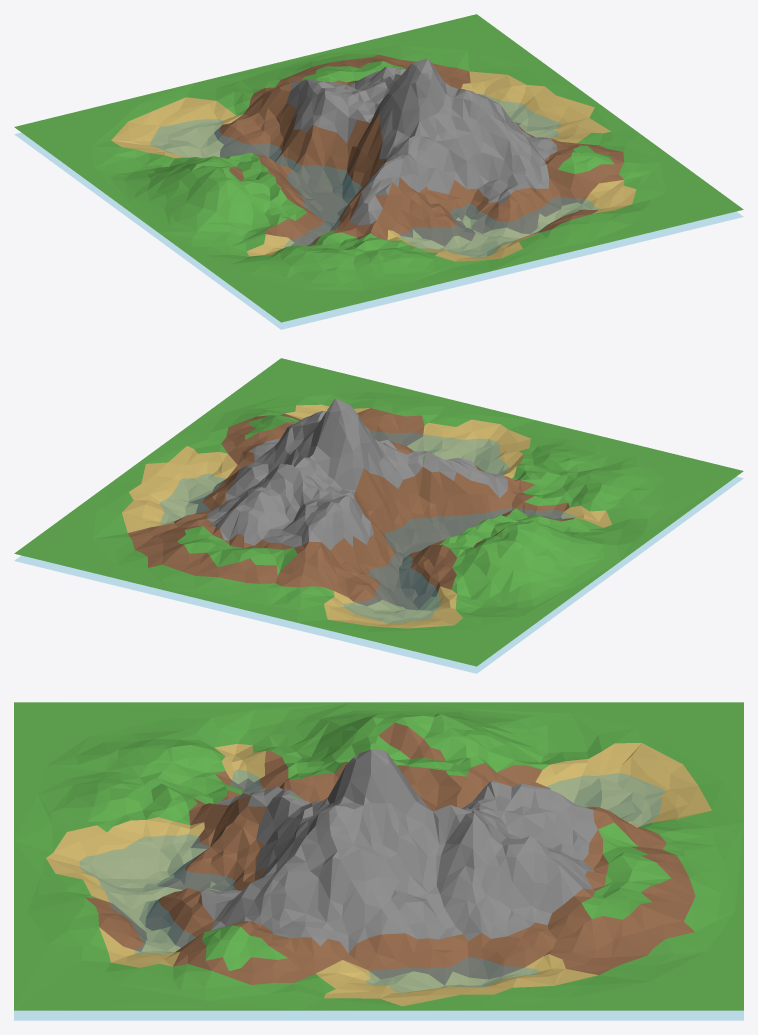
Rendered from mountain_lake.fbx.
3 renders of one model, top to bottom at view 1: azimuth 30°, elevation 25°; view 2: azimuth 150°, elevation 25°; view 3: azimuth 270°, elevation 25°, orthographic. The views are drawn at different scales.
Parts seen in each view (by area): view 1: mountain_lake01, water.002; view 2: mountain_lake01, water.002; view 3: mountain_lake01, water.002.
Part boxes in pixels (x1,y1,x2,y2): mountain_lake01: (14, 14, 743, 322); water.002: (15, 94, 742, 329); mountain_lake01: (14, 358, 743, 666); water.002: (15, 431, 742, 673); mountain_lake01: (14, 702, 743, 1010); water.002: (14, 769, 743, 1020).
Size of the model in its own units: 10000 by 2592 by 10000.
